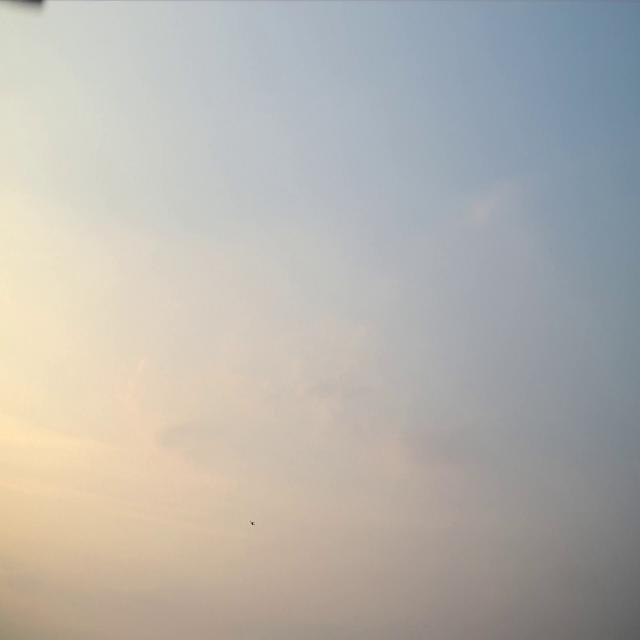UAV: (250, 520, 255, 526)
